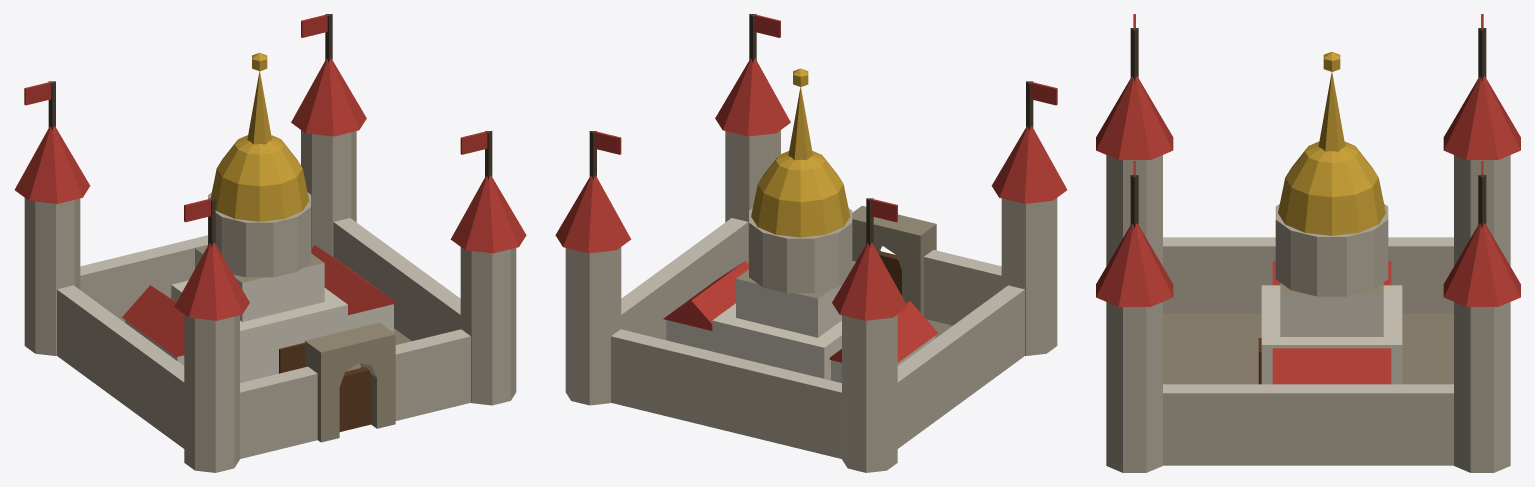
The model's file is capital.glb.
3 renders of one model, left to right at view 1: azimuth 30°, elevation 25°; view 2: azimuth 150°, elevation 25°; view 3: azimuth 270°, elevation 25°, orthographic. The views are drawn at different scales.
Parts seen in each view (by area): view 1: wall_right, tower4, tower3, wall_left, tower2, gate, dome, wall_front_right, wall_front_left, drum, wall_back, tower1 (+12 smaller); view 2: wall_back, wall_right, tower2, tower1, tower4, wall_left, dome, drum, palace, wall_front_right, upper, gate (+9 smaller); view 3: wall_left, wall_right, floor, tower1, tower3, dome, drum, palace, upper, tower2, tower4, roofs/wing_roof_left (+9 smaller).
Part boxes in pixels (x1,y1,x2,y2): wall_right: [57, 285, 184, 448]; tower4: [184, 314, 239, 472]; tower3: [460, 247, 516, 405]; wall_left: [333, 218, 460, 340]; tower2: [24, 198, 80, 355]; gate: [305, 322, 395, 442]; dome: [210, 135, 309, 221]; wall_front_right: [240, 366, 317, 458]; wall_front_left: [395, 329, 470, 420]; drum: [208, 192, 311, 277]; wall_back: [80, 235, 207, 322]; tower1: [301, 130, 356, 256]; wall_back: [611, 329, 841, 458]; wall_right: [897, 285, 1024, 448]; tower2: [842, 314, 897, 472]; tower1: [565, 247, 621, 405]; tower4: [1001, 198, 1057, 355]; wall_left: [621, 218, 748, 339]; dome: [751, 151, 850, 237]; drum: [749, 208, 852, 293]; palace: [712, 303, 841, 380]; wall_front_right: [924, 249, 1001, 325]; upper: [736, 261, 855, 337]; gate: [852, 205, 936, 316]; wall_left: [1163, 384, 1453, 465]; wall_right: [1163, 237, 1453, 313]; floor: [1163, 313, 1453, 384]; tower1: [1454, 302, 1510, 472]; tower3: [1106, 302, 1162, 472]; dome: [1278, 141, 1385, 235]; drum: [1275, 204, 1388, 296]; palace: [1261, 285, 1402, 384]; upper: [1280, 283, 1383, 336]; tower2: [1454, 155, 1510, 265]; tower4: [1106, 155, 1162, 265]; roofs/wing_roof_left: [1272, 348, 1391, 384].
Size of the model in its own units: 0.904 by 0.789 by 0.904.
